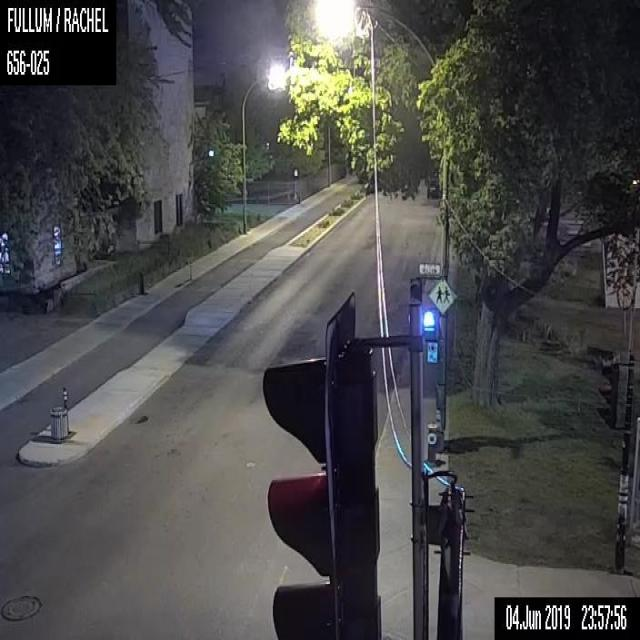vehicle: (426, 181, 438, 197)
